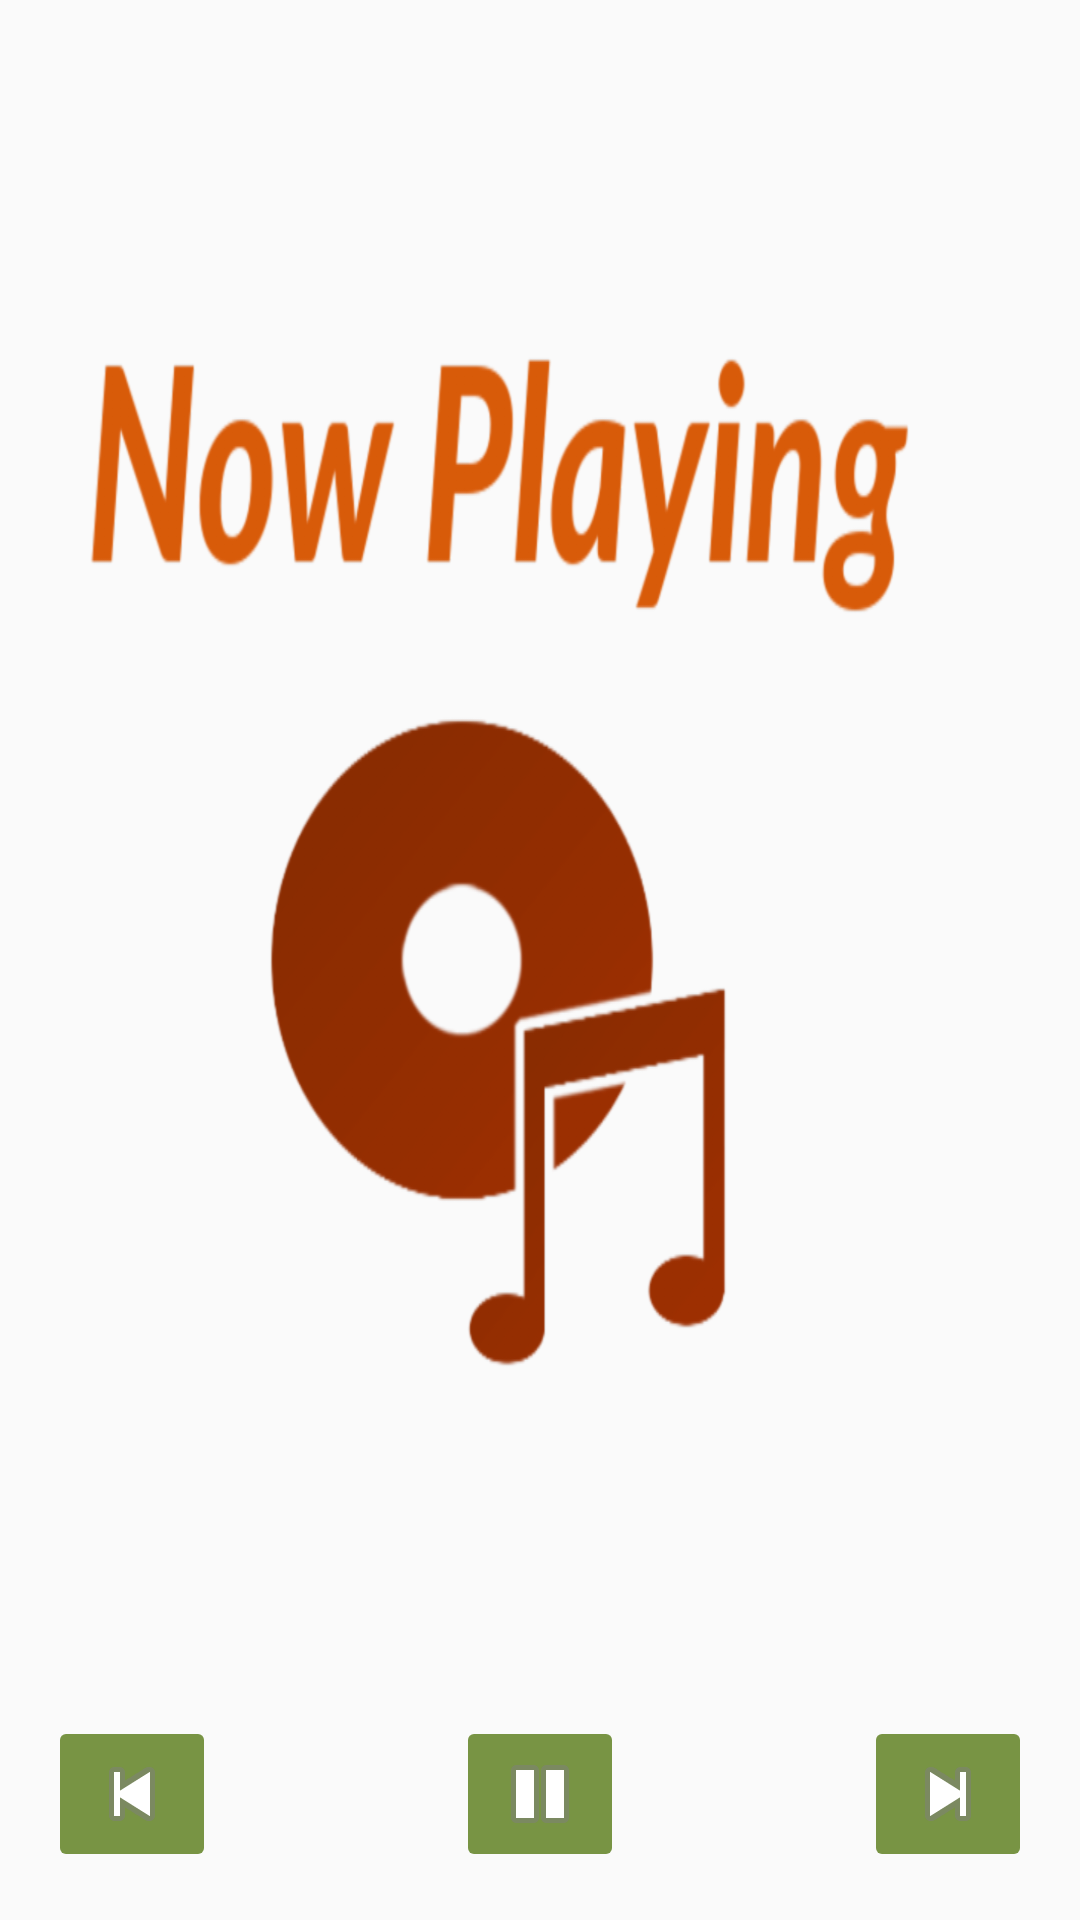

Named icons in this screenshot (1080 × 1920) and their centers, [x,y]:
next: [948,1794]
pause: [540,1794]
previous: [132,1794]
